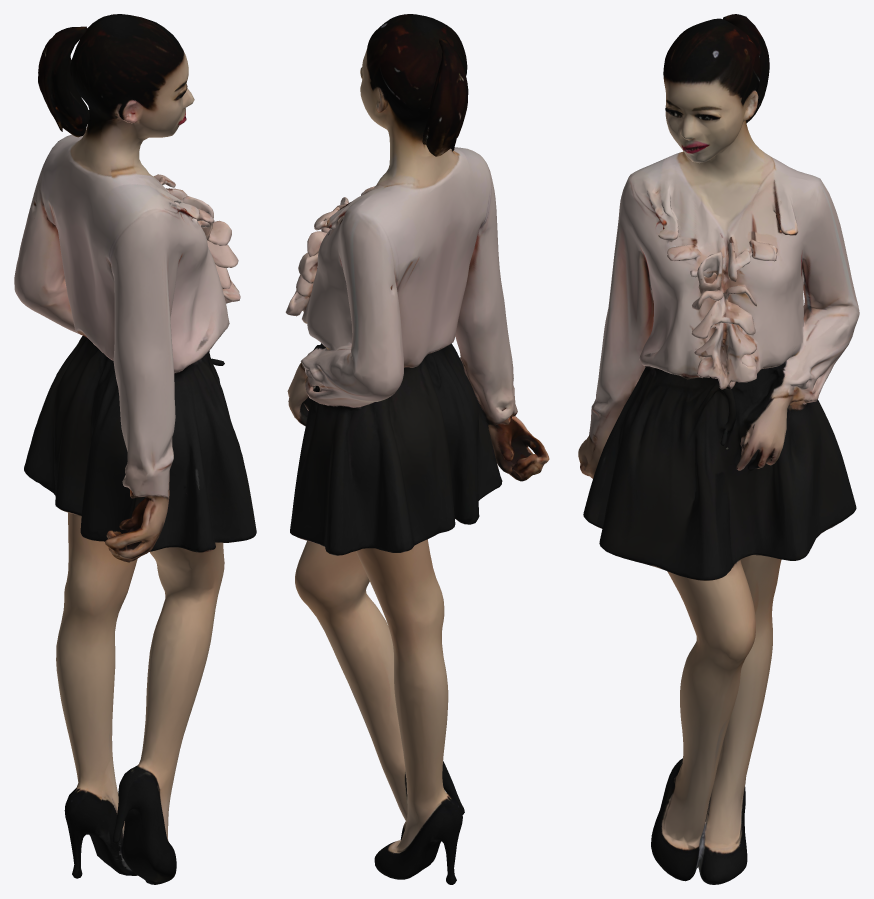
3 views of the same model, side by side, from view 1: azimuth 30°, elevation 25°; view 2: azimuth 150°, elevation 25°; view 3: azimuth 270°, elevation 25° (orthographic).
Visible parts, largest first — view 1: tripo_node_af786e59-f35d-4976-ba67-522c08180c8f; view 2: tripo_node_af786e59-f35d-4976-ba67-522c08180c8f; view 3: tripo_node_af786e59-f35d-4976-ba67-522c08180c8f.
Part boxes in pixels (<box>): tripo_node_af786e59-f35d-4976-ba67-522c08180c8f: <box>14,14,256,884</box>; tripo_node_af786e59-f35d-4976-ba67-522c08180c8f: <box>285,14,549,884</box>; tripo_node_af786e59-f35d-4976-ba67-522c08180c8f: <box>578,14,859,884</box>.
Bounding box in the file's own units: 0.2329 × 0.9995 × 0.3006.
Materials: 1 (1 with a texture image).
